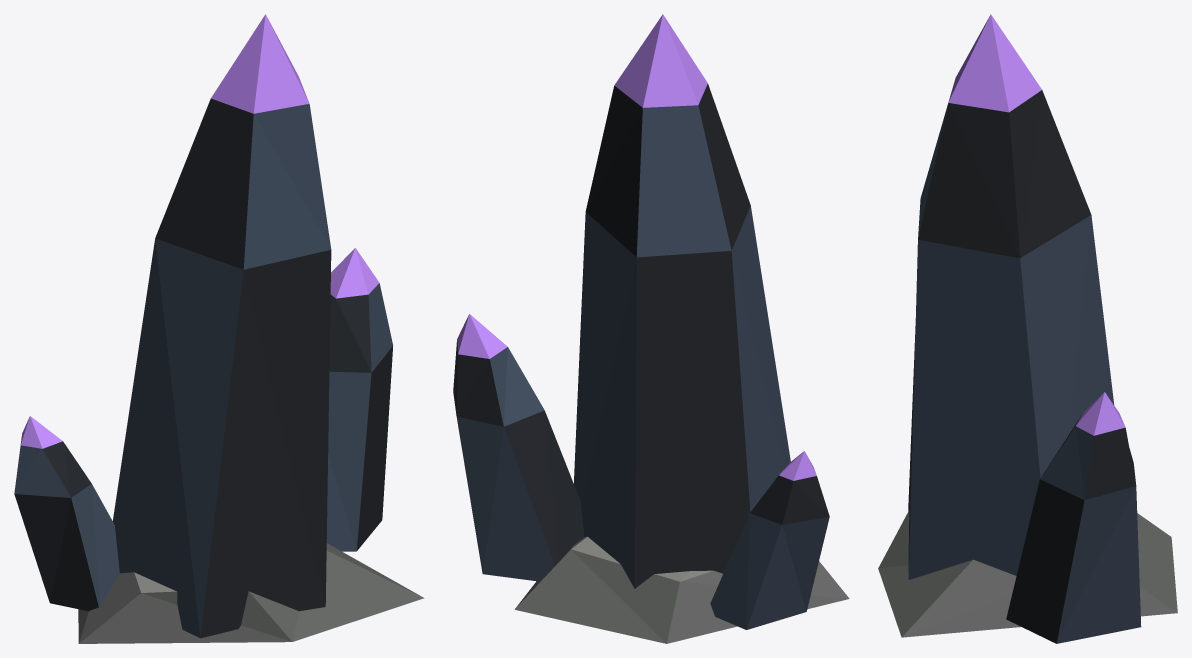
File: obsidian_shard_m.fbx
3 renders of one model, left to right at view 1: azimuth 30°, elevation 25°; view 2: azimuth 150°, elevation 25°; view 3: azimuth 270°, elevation 25°, orthographic. The views are drawn at different scales.
Visible parts, largest first — view 1: obsidian_shard_m; view 2: obsidian_shard_m; view 3: obsidian_shard_m.
Part boxes in pixels (bbox=[...]): obsidian_shard_m: bbox=[14, 14, 424, 643]; obsidian_shard_m: bbox=[453, 14, 849, 643]; obsidian_shard_m: bbox=[878, 14, 1177, 643].
Size of the model in its own units: 0.7185 by 1.02 by 0.4869.
